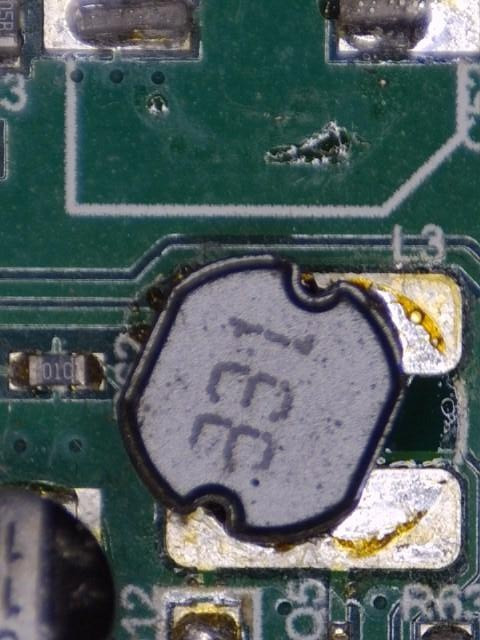pcb_defect: (116, 253, 463, 572)
